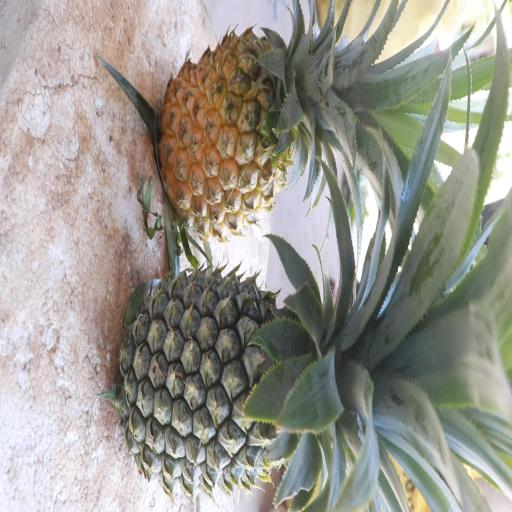Pineapple - v8 v1: (156, 8, 448, 220)
